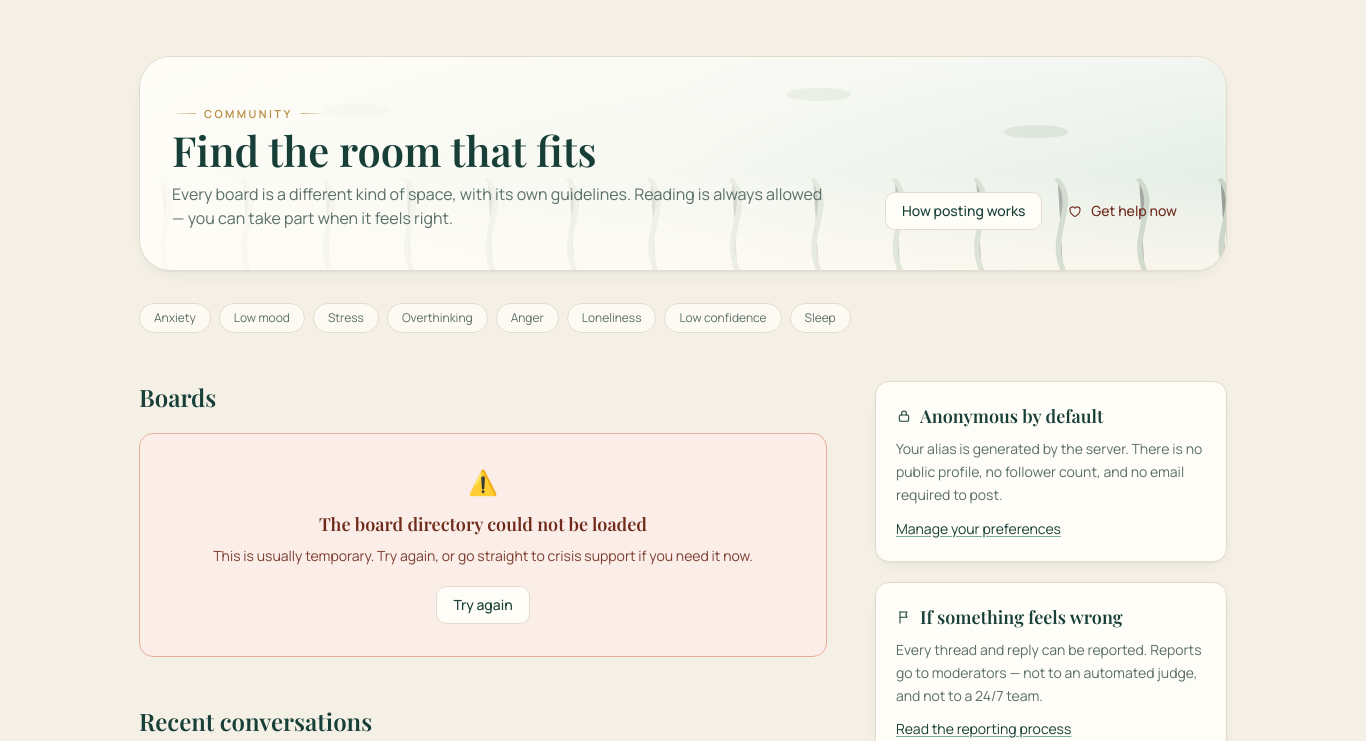
Scenario: CommunityPage › renders an ErrorState with a retry that refetches
Expected: the heading "The board directory could not be loaded" is shown, top-left (319, 512), bottom-right (647, 536)
Click the button "Try again".
click(483, 605)  # box top-left (436, 586), bottom-right (530, 624)
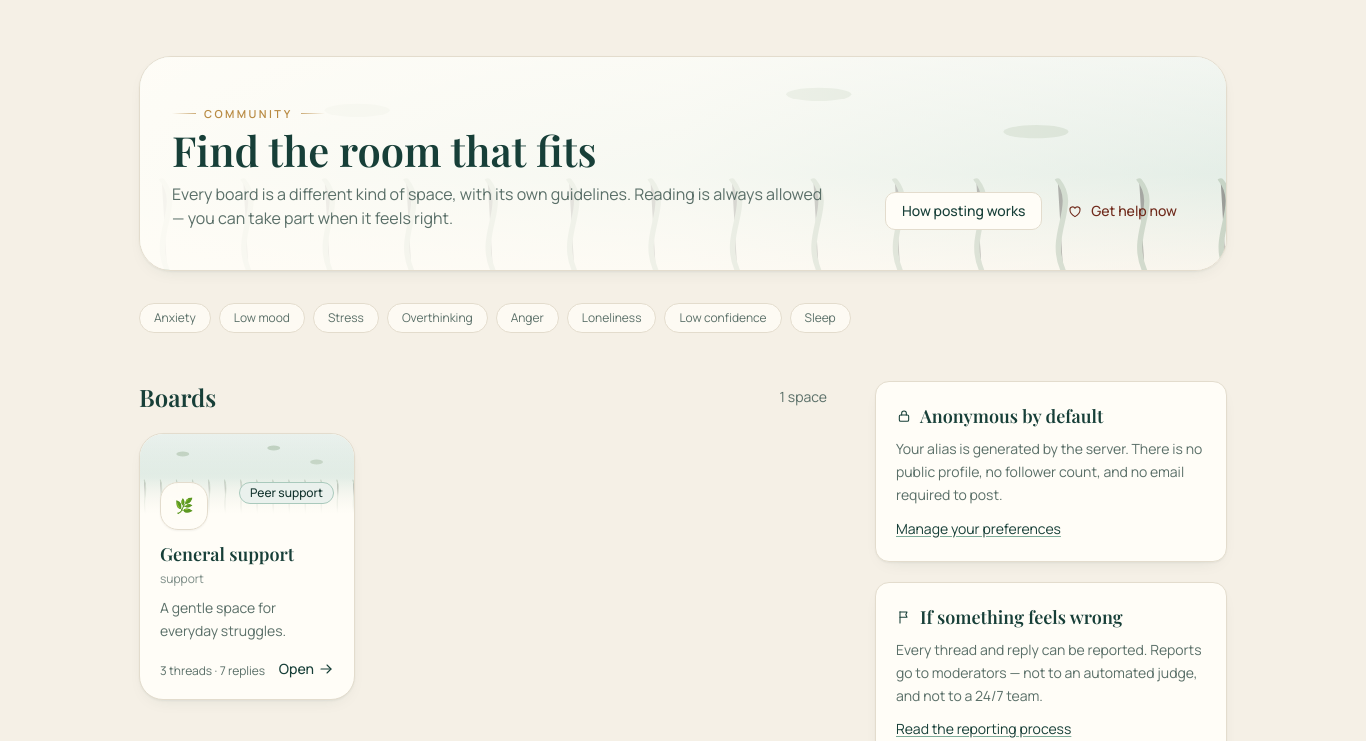
Expected: the heading "General support" is shown, top-left (160, 542), bottom-right (294, 566)
